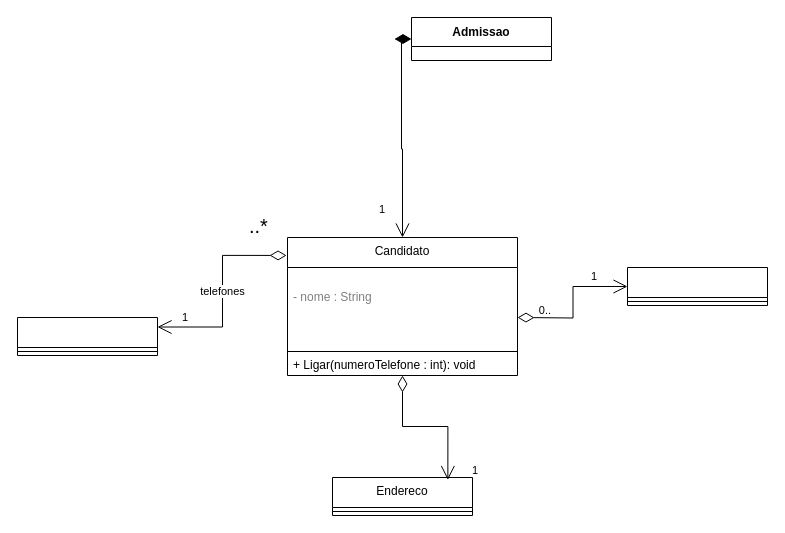
Image size: 785x533. Some labels were removed from this diagram. The centre of each missing label's shape, as x and y in pixels:
"Profissao" goes at (x=697, y=286).
"Telefone" goes at (x=87, y=336).
